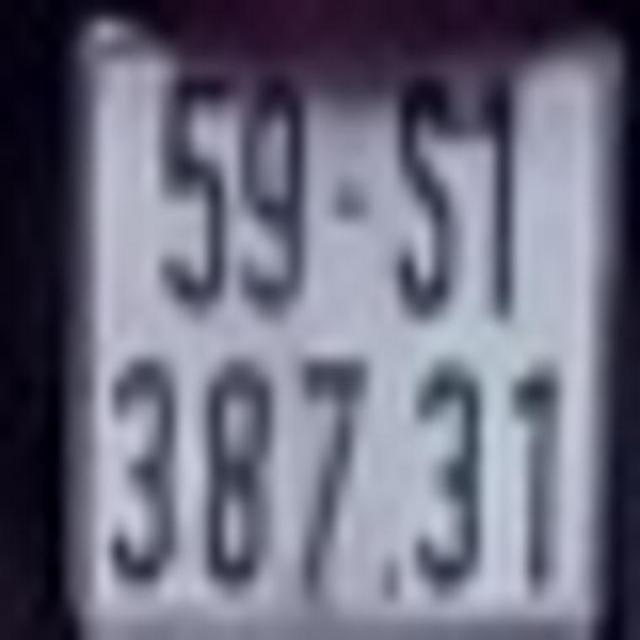1: (475, 84, 528, 326), (513, 377, 565, 602)
3: (99, 358, 178, 580), (412, 371, 487, 591)
5: (160, 78, 230, 310)
7: (296, 355, 370, 591)
8: (204, 362, 272, 589)
9: (241, 78, 311, 310)
S: (388, 73, 462, 322)
